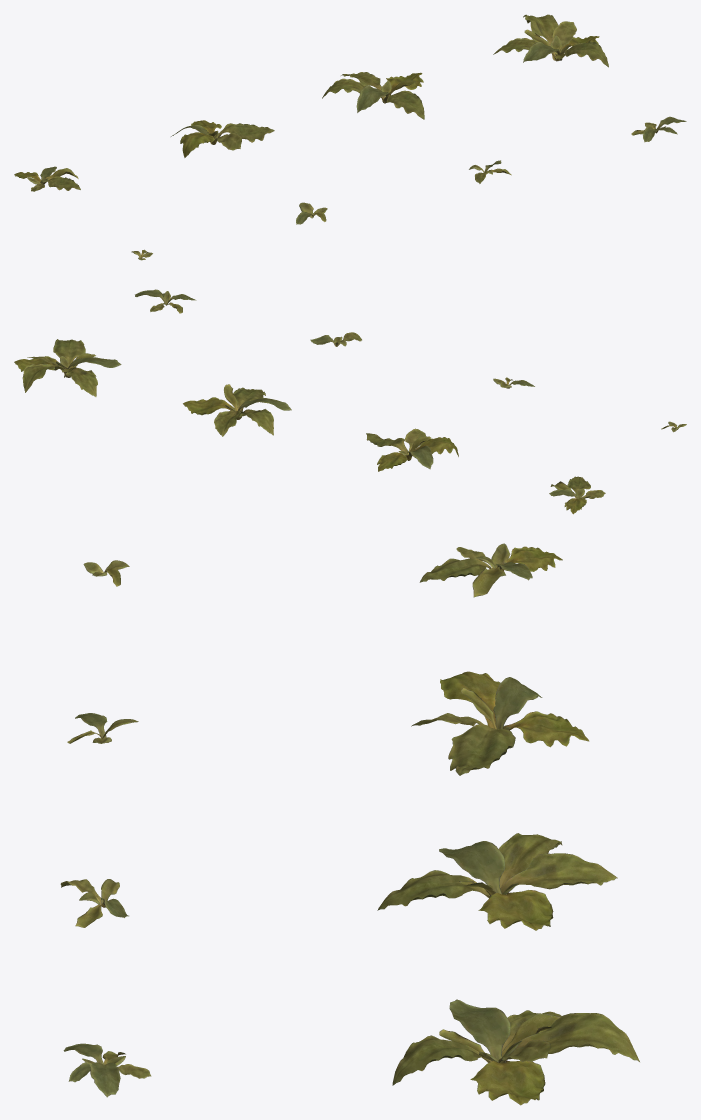
The model's file is crystalline_iceplant.glb.
3 views of the same model, one above another, from view 1: azimuth 30°, elevation 25°; view 2: azimuth 150°, elevation 25°; view 3: azimuth 270°, elevation 25° (orthographic). The views are drawn at different scales.
Visible parts, largest first — view 1: crystalline_iceplant_a_LOD0; view 2: crystalline_iceplant_a_LOD0; view 3: crystalline_iceplant_a_LOD0.
Boxes of the visible parts, box(x1,y1,x2,y2) form: crystalline_iceplant_a_LOD0: box(14, 14, 686, 260); crystalline_iceplant_a_LOD0: box(14, 289, 686, 514); crystalline_iceplant_a_LOD0: box(60, 543, 639, 1105).
Bounding box in the file's own units: 1.69 × 0.0821 × 0.7379.
1 material, 1 textured.
